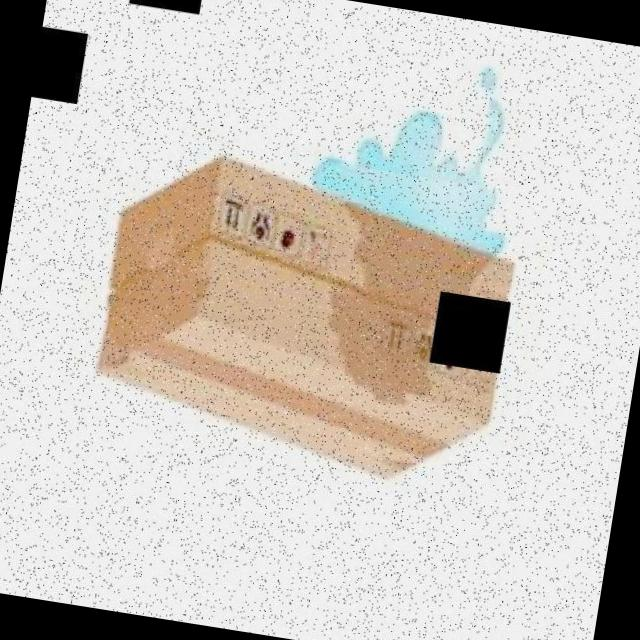box: (76, 130, 533, 500)
